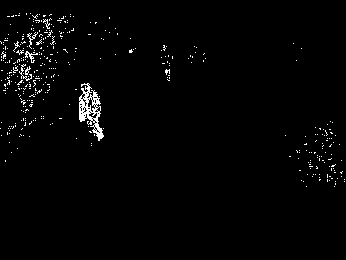person: (78, 82, 105, 142)
